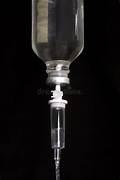Iv_Bottle: (32, 0, 83, 76)
Syringe: (49, 85, 66, 179)
